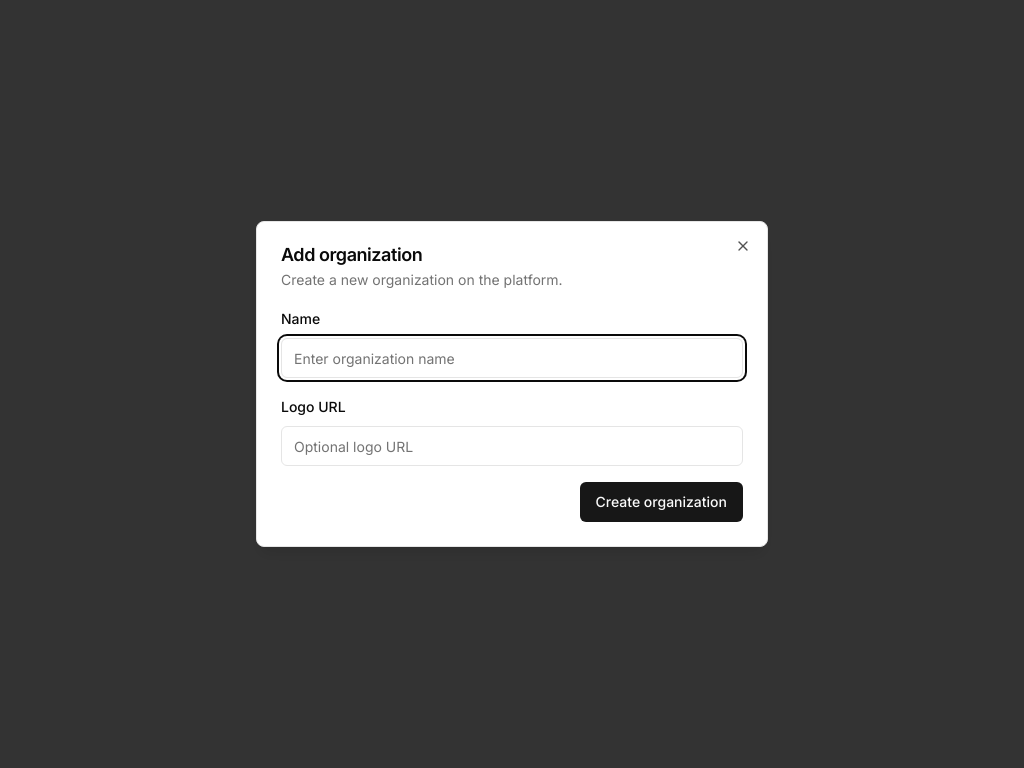
OrganizationFormDialog › shows an inline name error on a server 422 validation_error (no toast)
Step 1. Type "Valid Enough" into the field labelled "Name" → point(512, 358), box left=281, top=338, right=743, bottom=378
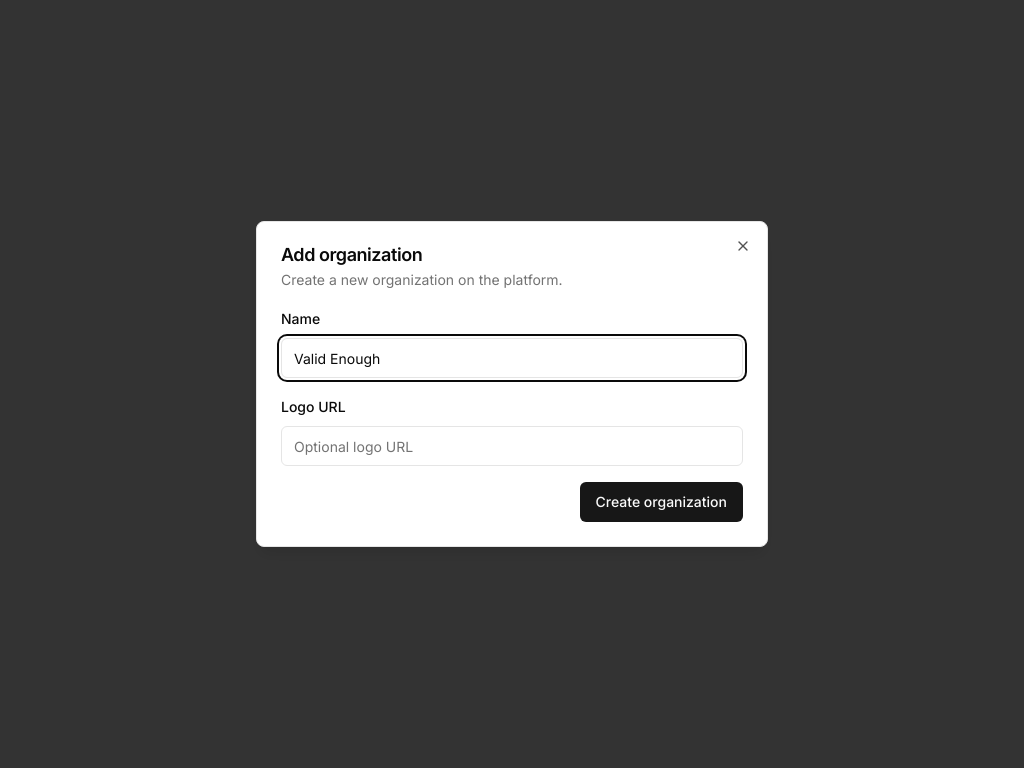
Step 2. Click the button "Create organization" → point(661, 502), box left=580, top=482, right=743, bottom=522
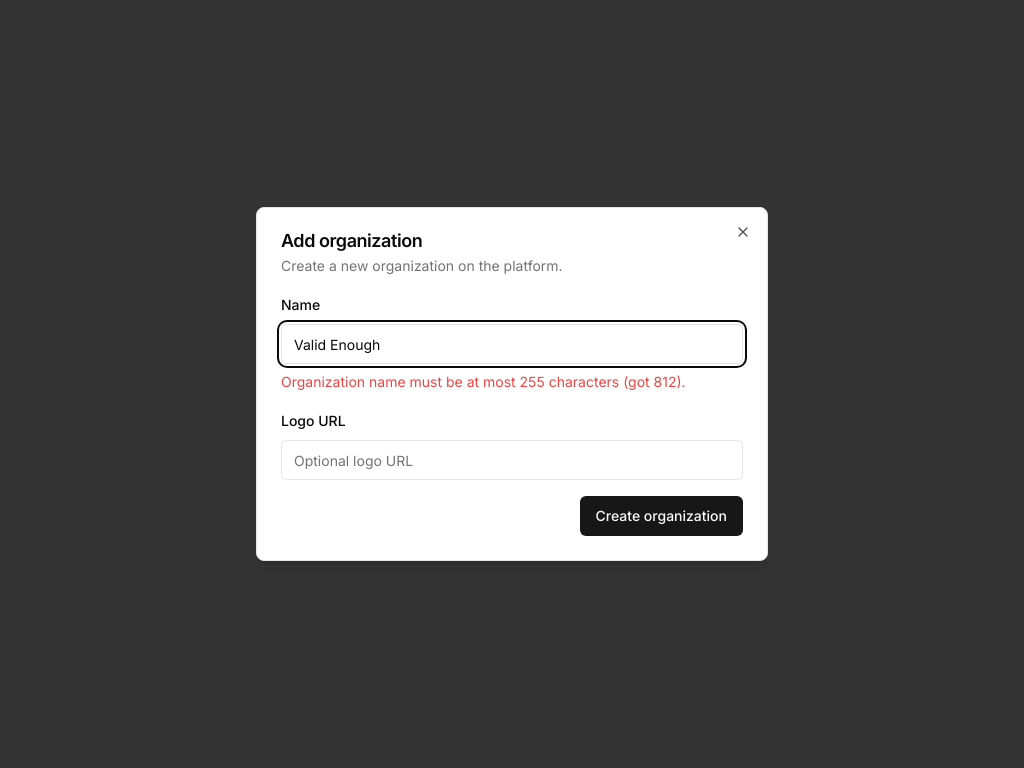
Now the text "Organization name must be at most 255 characters (got 812)." is shown, box left=281, top=372, right=743, bottom=392
